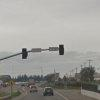Car: (27, 80, 57, 98)
